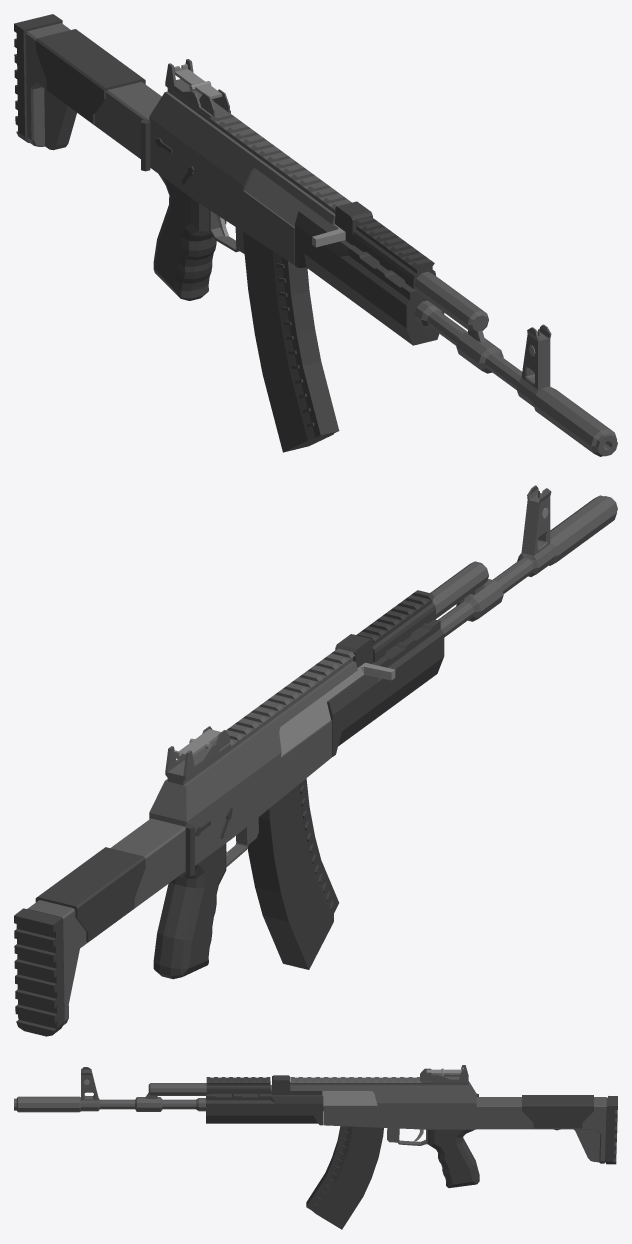
File: gun_ak12.glb
The picture shows the model from 3 angles, top to bottom: view 1: azimuth 30°, elevation 25°; view 2: azimuth 150°, elevation 25°; view 3: azimuth 270°, elevation 25°; orthographic projection. The views are drawn at different scales.
Visible parts, largest first — view 1: assault_01_0, Magazin_0, Bolt_0; view 2: assault_01_0, Magazin_0, Bolt_0; view 3: assault_01_0, Magazin_0, Bolt_0.
Part boxes in pixels (x1=…): assault_01_0: x1=14, y1=14, x2=617, y2=456; Magazin_0: x1=243, y1=232, x2=339, y2=452; Bolt_0: x1=245, y1=168, x2=345, y2=247; assault_01_0: x1=14, y1=485, x2=617, y2=1036; Magazin_0: x1=247, y1=778, x2=338, y2=969; Bolt_0: x1=279, y1=662, x2=395, y2=756; assault_01_0: x1=14, y1=1065, x2=617, y2=1187; Magazin_0: x1=306, y1=1126, x2=383, y2=1229; Bolt_0: x1=322, y1=1091, x2=377, y2=1105.
Bounding box in the file's own units: 0.0557 × 0.2651 × 0.914.
Materials: 1 (1 with a texture image).
